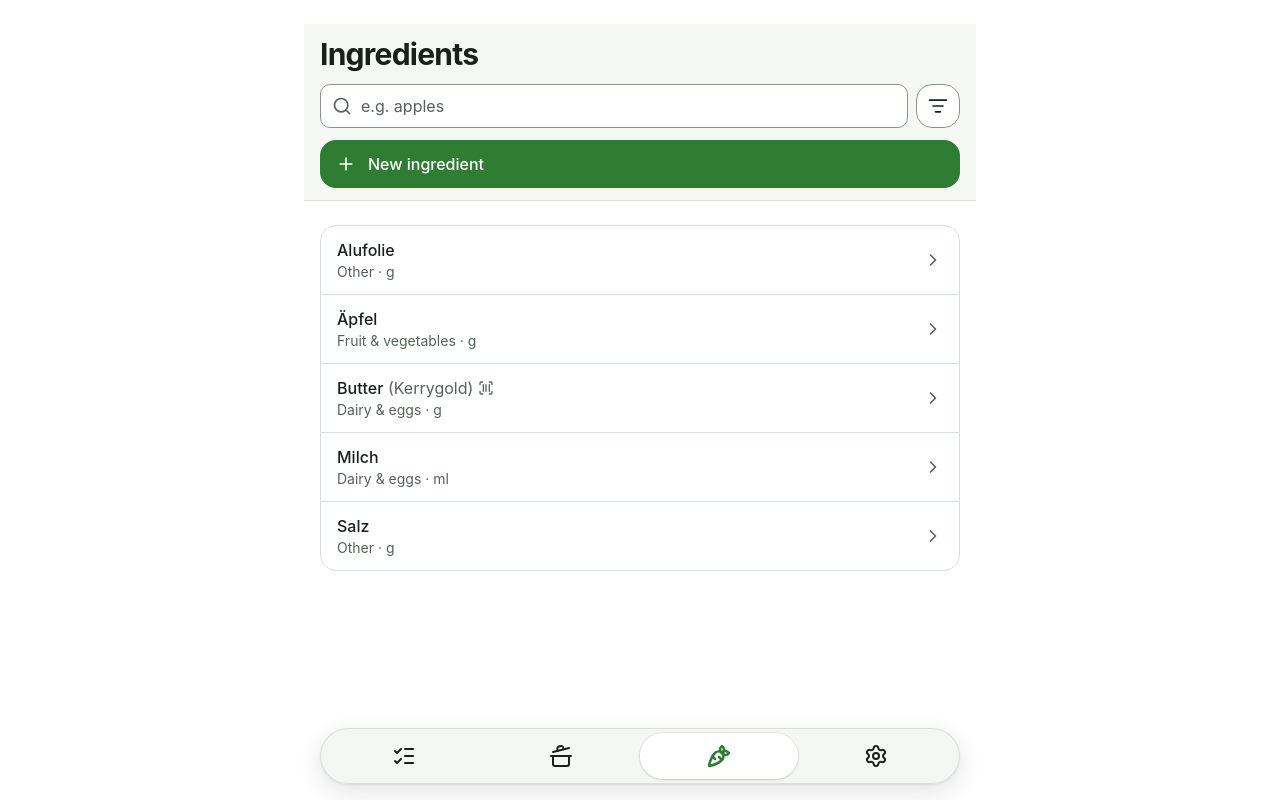
Scenario: IngredientsScreen › opens the filter panel from next to the search, with every category (UI-01)
Expected: the list with test id "ingredient-list" is shown, [320,225,960,571]
Click the button with test id "filter-button".
click(938, 106)  # box [916,84,960,128]
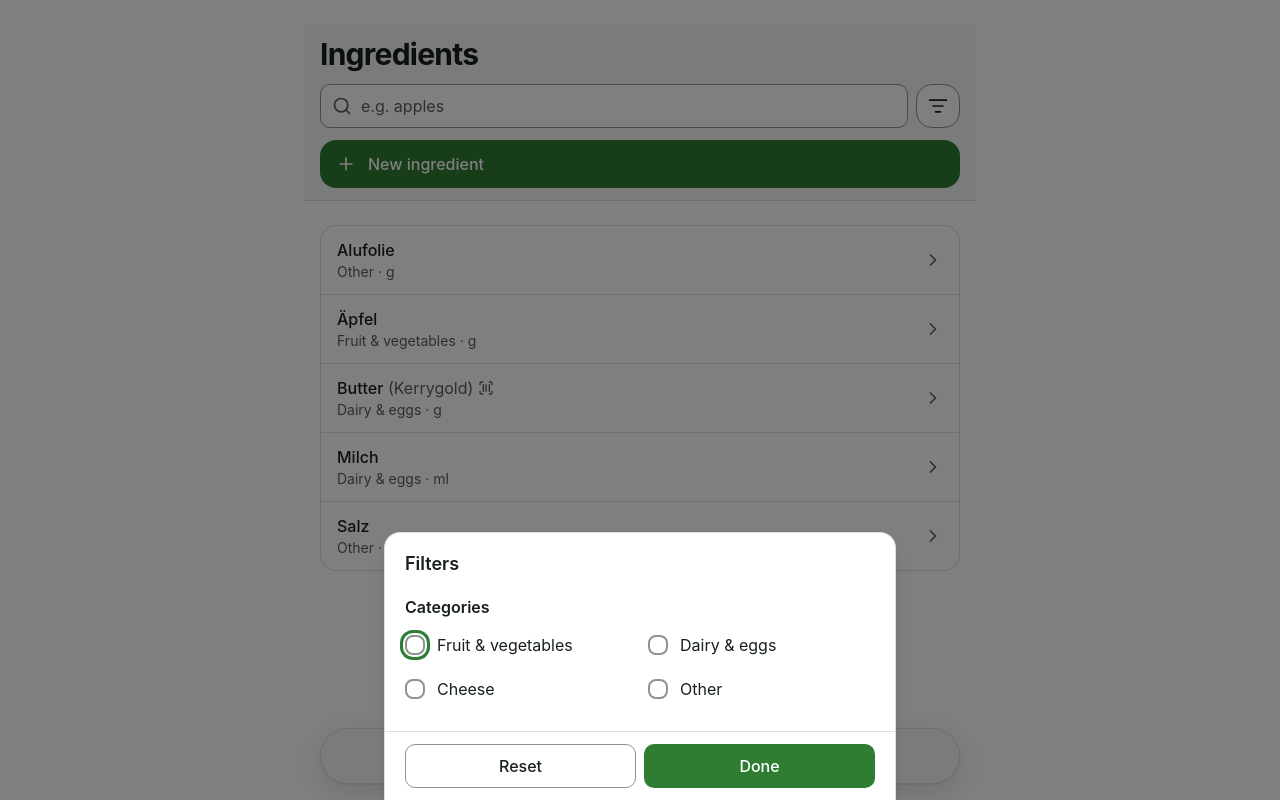
Expected: the checkbox labelled "Fruit & vegetables" is not checked, [405,635,425,655]
Expected: the checkbox labelled "Dairy & eggs" is not checked, [648,635,668,655]
Expected: the checkbox labelled "Cheese" is not checked, [405,679,425,699]
